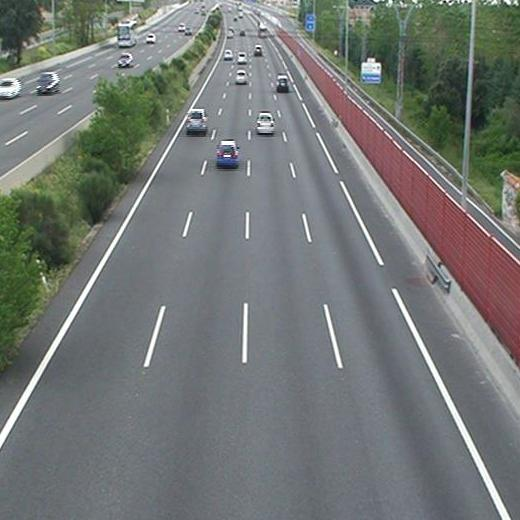car: (216, 140, 238, 166), (186, 109, 205, 134), (256, 112, 274, 134), (276, 74, 289, 92), (234, 70, 247, 85), (253, 45, 263, 57), (237, 52, 247, 63), (224, 49, 233, 61)
